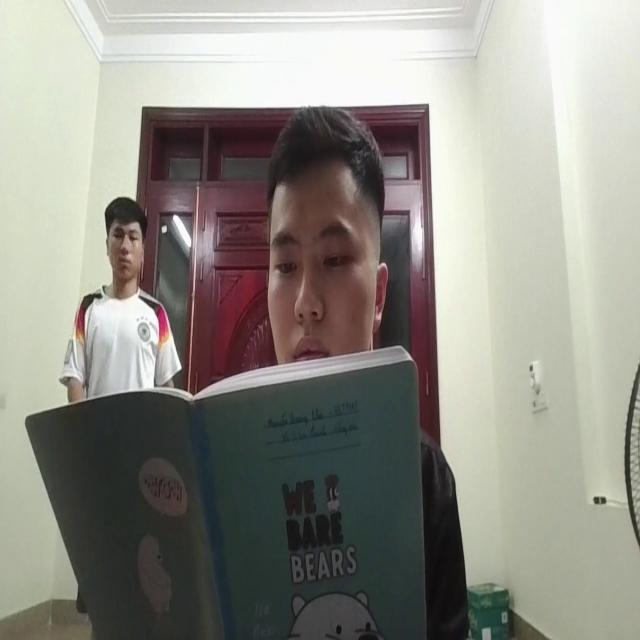book: (29, 357, 420, 640)
extra_person: (58, 191, 175, 404)
student: (266, 108, 385, 374)
